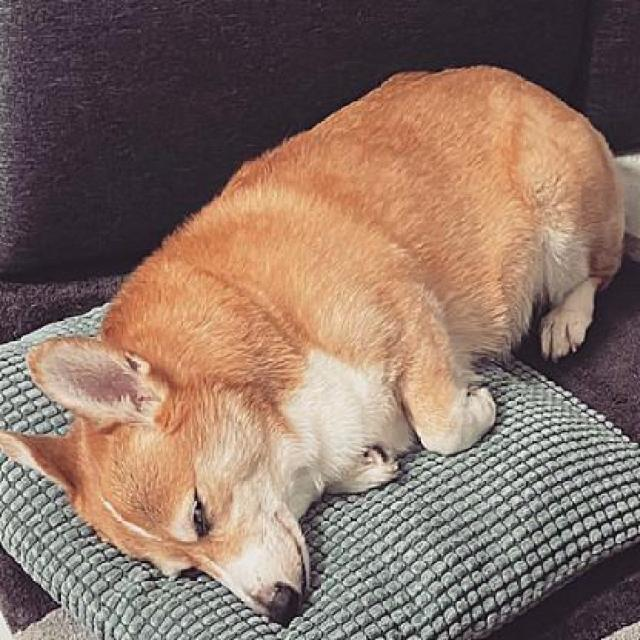Dog: (0, 63, 631, 628)
